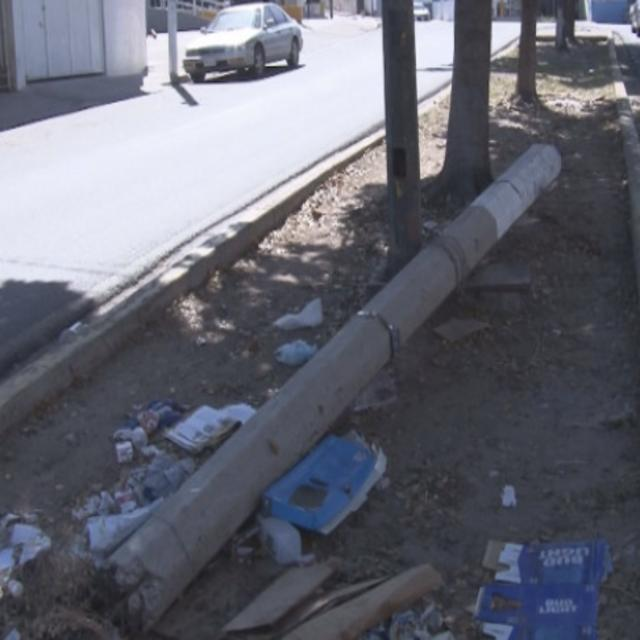Inclined Pole: (82, 138, 567, 625)
